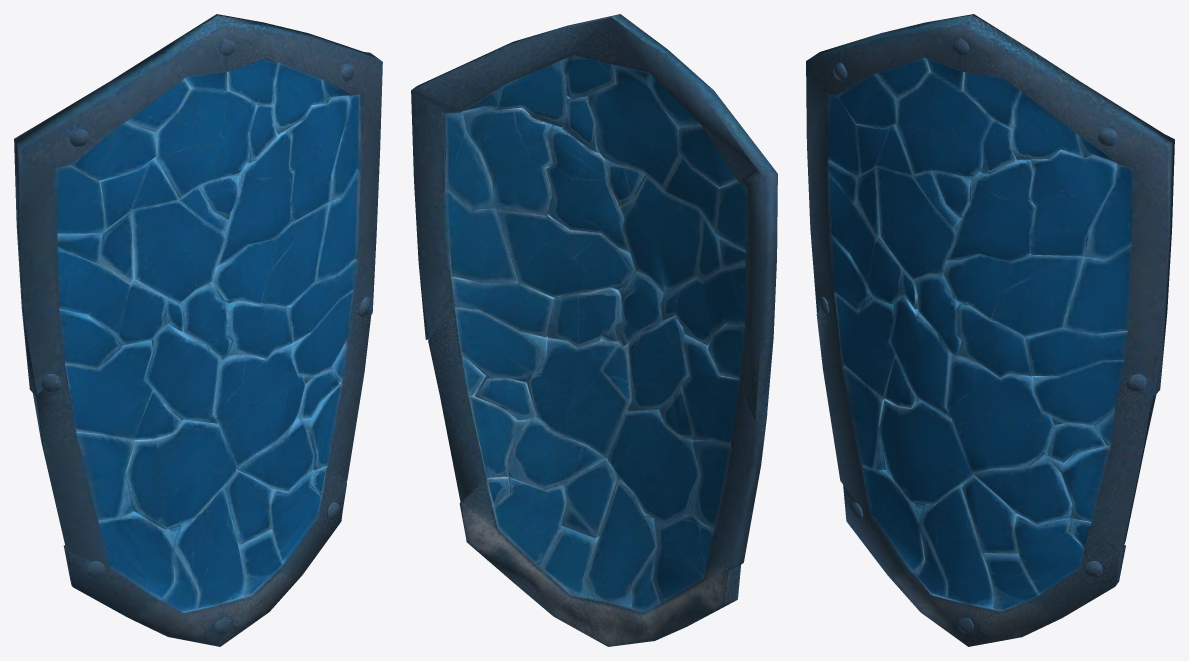
Rendered from frost-shield.glb.
3 views of the same model, side by side, from view 1: azimuth 30°, elevation 25°; view 2: azimuth 150°, elevation 25°; view 3: azimuth 330°, elevation 25° (orthographic).
Size of the model in its own units: 0.6031 by 1 by 0.111.
Materials: 1 (1 with a texture image).
